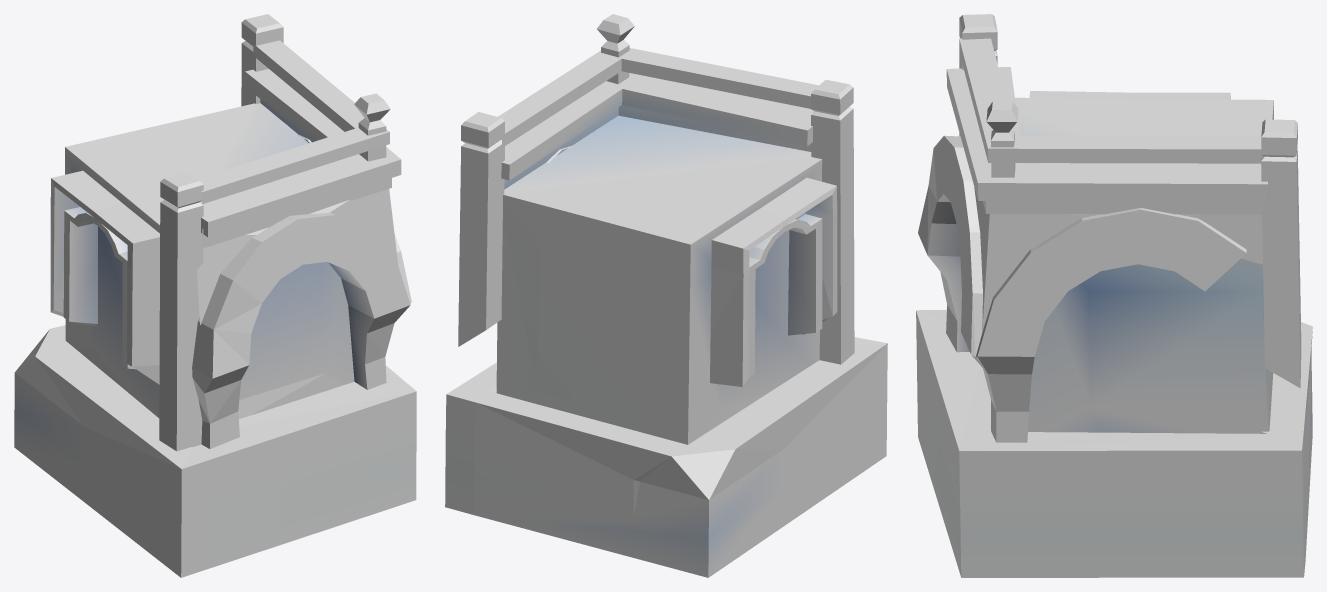
The model's file is FloatingShipDeck.gltf.
3 views of the same model, side by side, from view 1: azimuth 30°, elevation 25°; view 2: azimuth 150°, elevation 25°; view 3: azimuth 270°, elevation 25° (orthographic). The views are drawn at different scales.
Parts seen in each view (by area): view 1: FloatingShipDeckMesh; view 2: FloatingShipDeckMesh; view 3: FloatingShipDeckMesh.
Part boxes in pixels (left/top/right/bottom): FloatingShipDeckMesh: left=14, top=14, right=416, bottom=577; FloatingShipDeckMesh: left=445, top=14, right=887, bottom=577; FloatingShipDeckMesh: left=916, top=14, right=1312, bottom=577.
Size of the model in its own units: 3.73 by 5.34 by 4.18.
